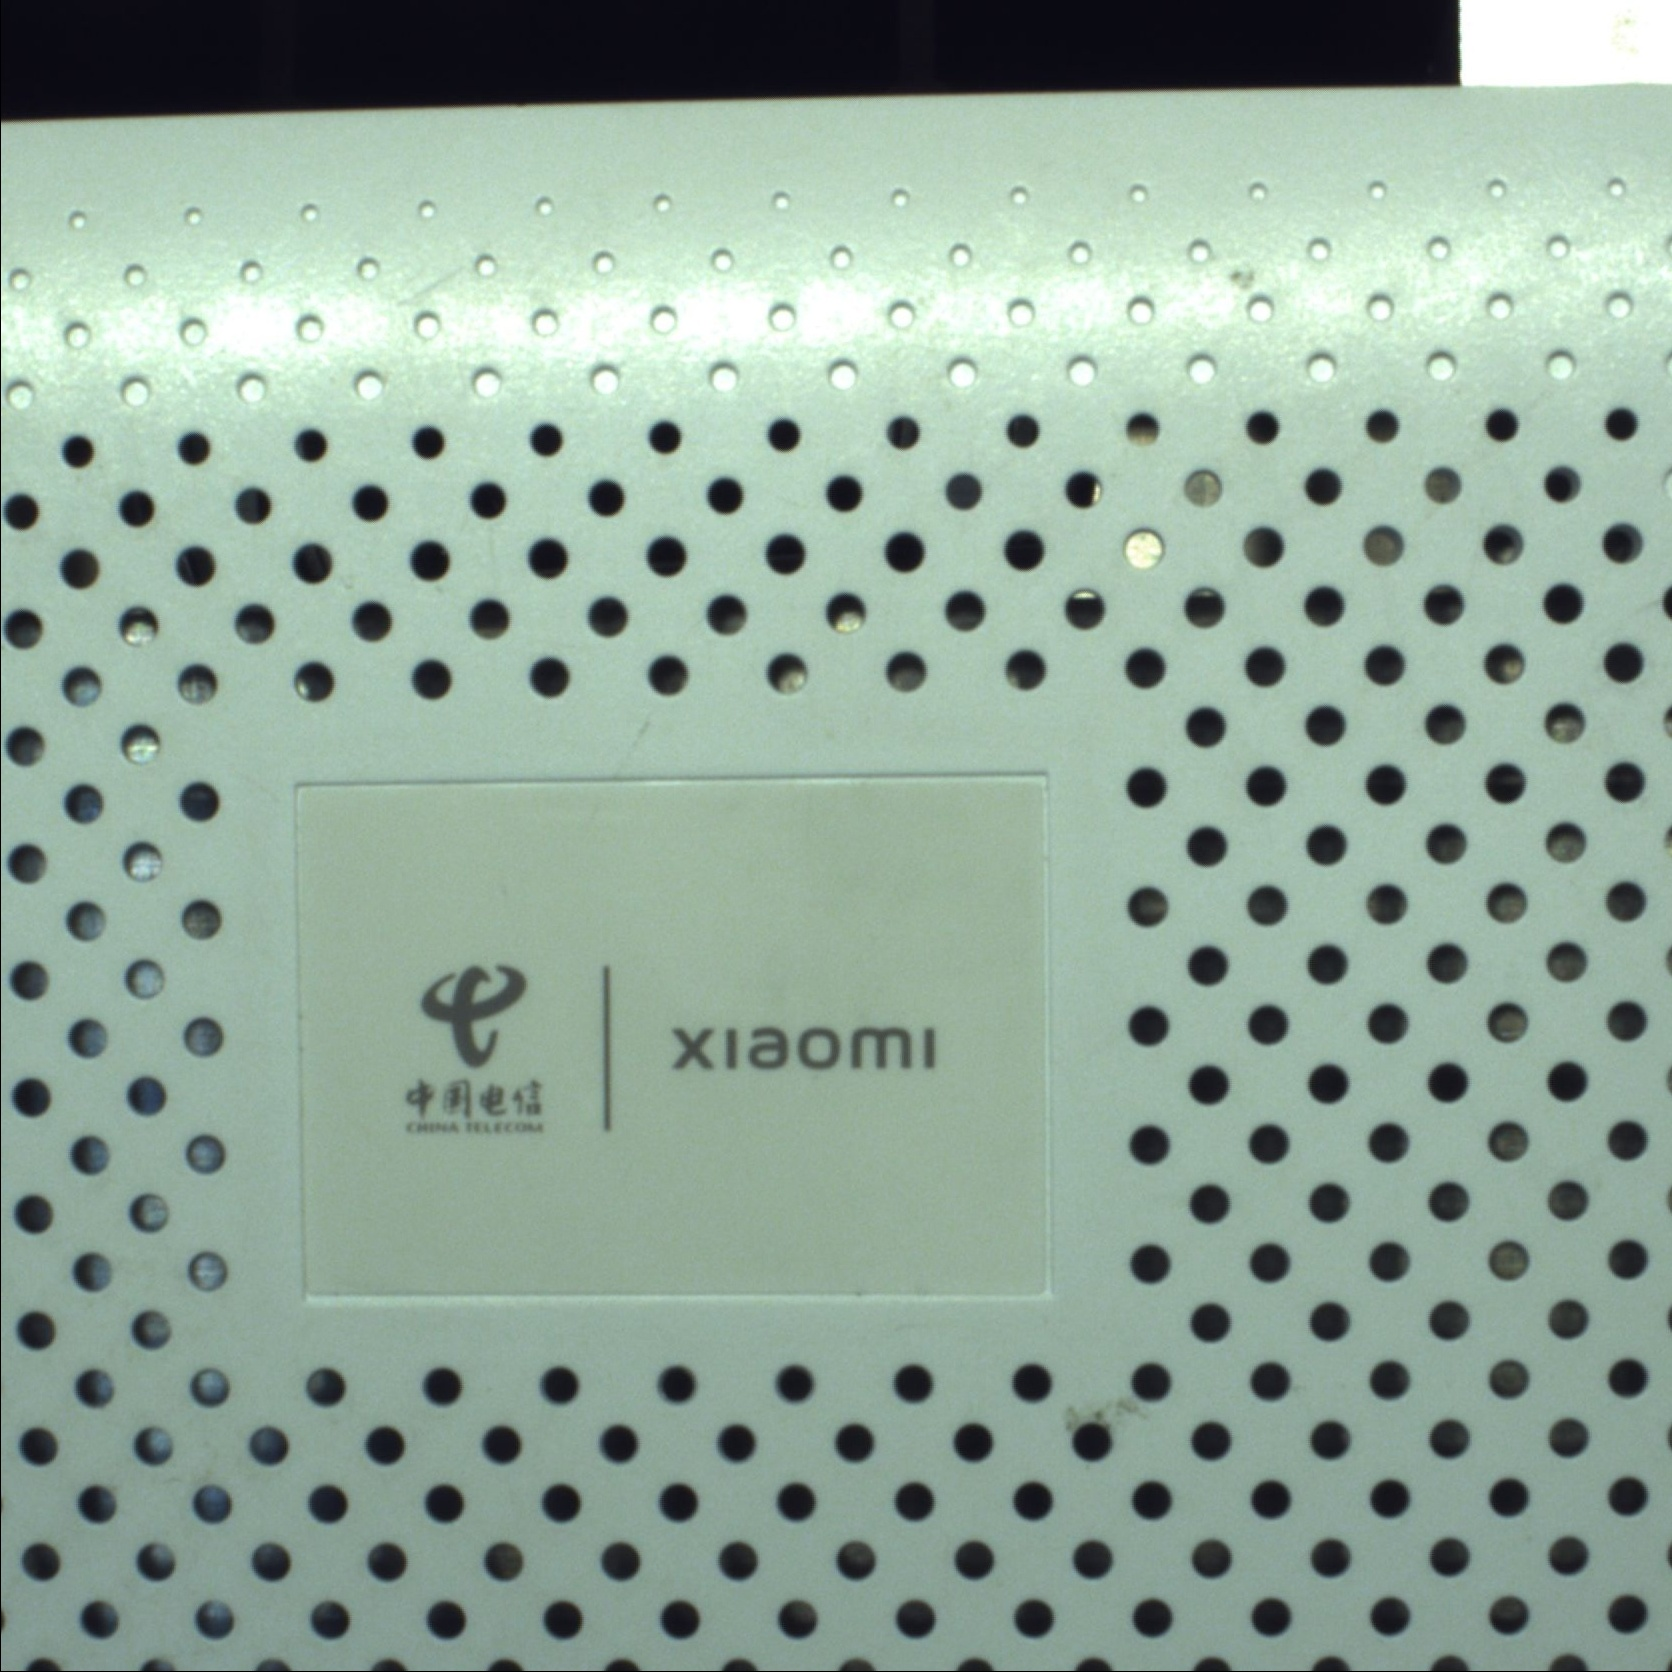MAA_Telecom: (374, 957, 949, 1138)
